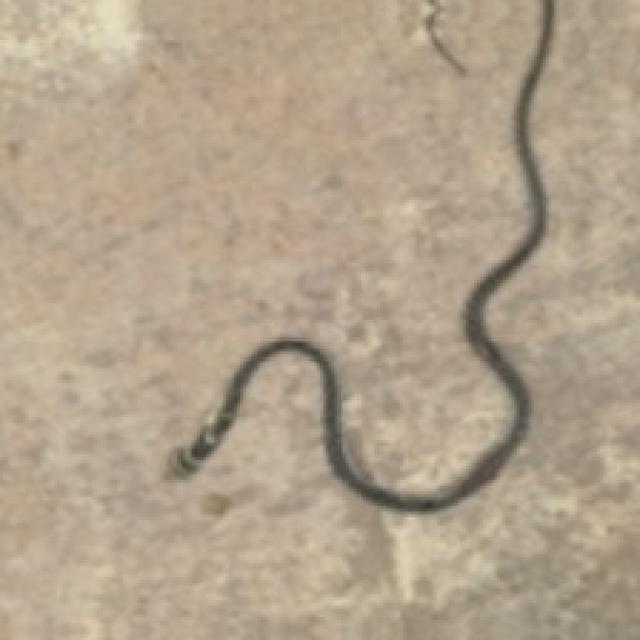king cobra: (169, 0, 551, 509)
